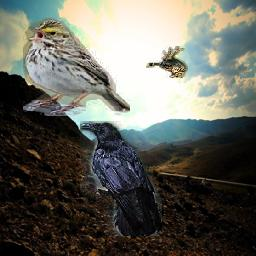Crow: (80, 122, 162, 237)
Sparrow: (24, 16, 131, 117), (146, 46, 188, 78)
